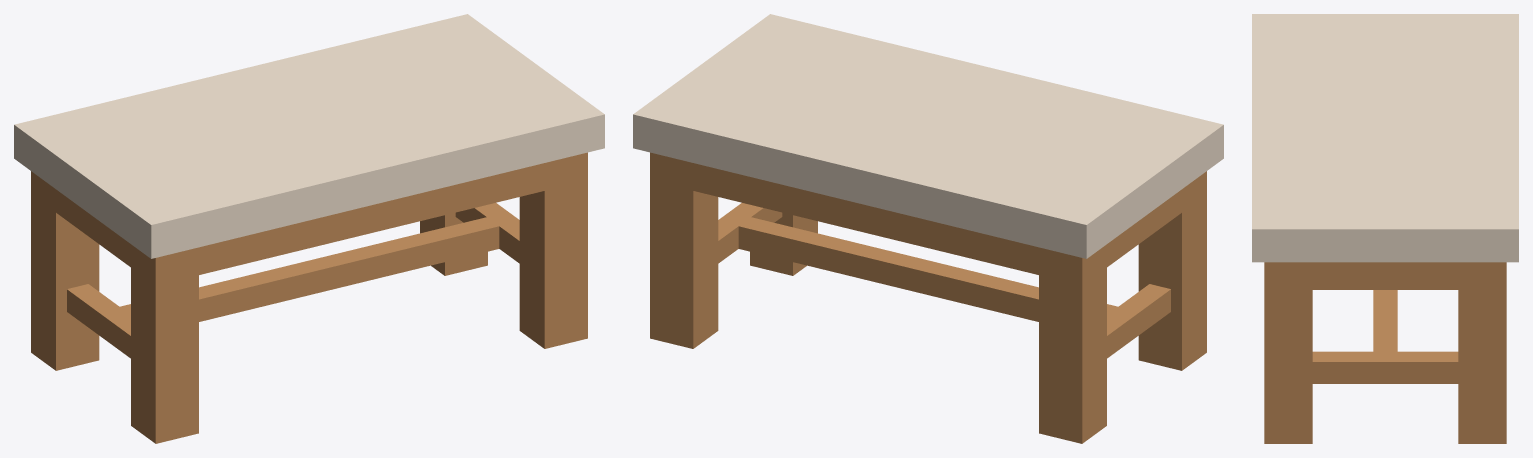
Rendered from kitBenchCushionLow.glb.
3 views of the same model, side by side, from view 1: azimuth 30°, elevation 25°; view 2: azimuth 150°, elevation 25°; view 3: azimuth 270°, elevation 25° (orthographic). The views are drawn at different scales.
Parts seen in each view (by area): view 1: kitBenchCushionLow_fabric, kitBenchCushionLow_wood; view 2: kitBenchCushionLow_fabric, kitBenchCushionLow_wood; view 3: kitBenchCushionLow_fabric, kitBenchCushionLow_wood.
Boxes of the visible parts, x1=… form: kitBenchCushionLow_fabric: x1=14, y1=14, x2=604, y2=258; kitBenchCushionLow_wood: x1=31, y1=152, x2=587, y2=443; kitBenchCushionLow_fabric: x1=633, y1=14, x2=1223, y2=258; kitBenchCushionLow_wood: x1=650, y1=152, x2=1206, y2=443; kitBenchCushionLow_fabric: x1=1252, y1=14, x2=1518, y2=262; kitBenchCushionLow_wood: x1=1264, y1=262, x2=1506, y2=443.
Bounding box in the file's own units: 0.84 × 0.4 × 0.44.
